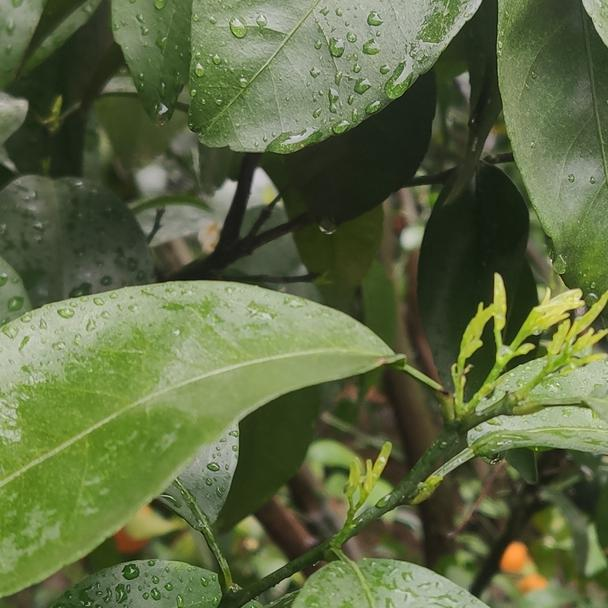shoot: (487, 278, 581, 370), (546, 295, 608, 377)
